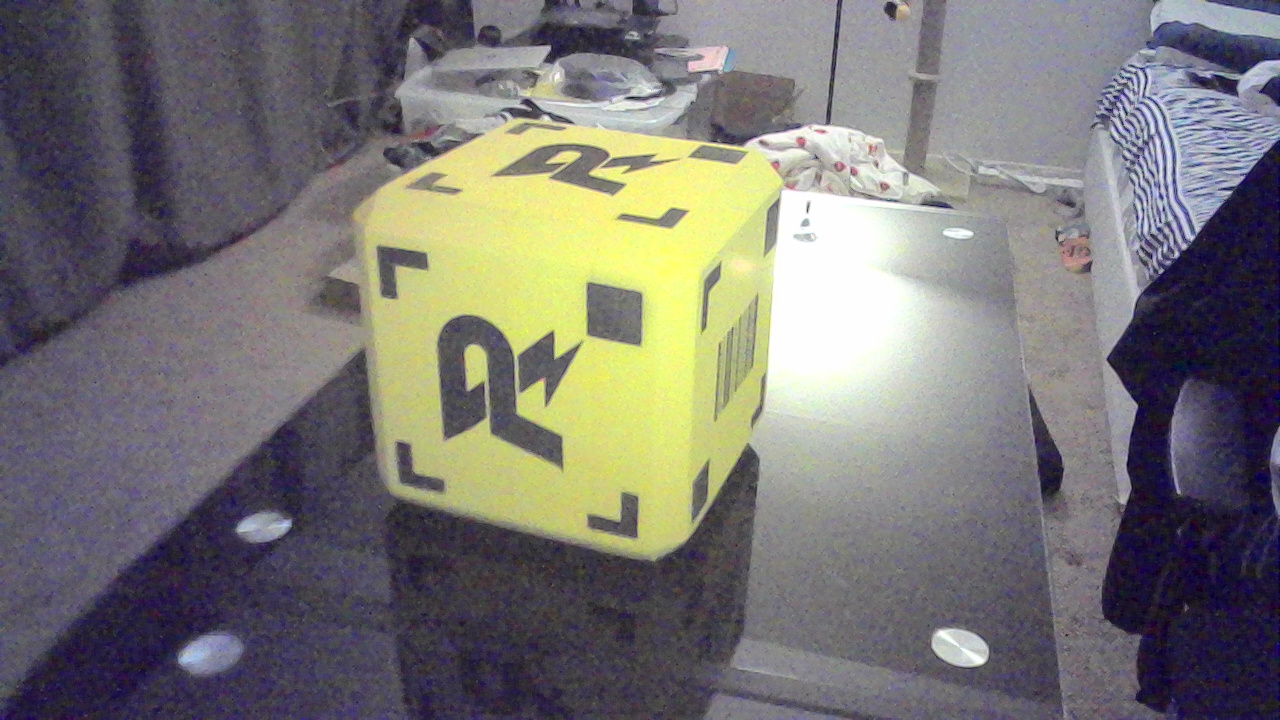Barcode: (706, 317, 784, 413)
R: (434, 308, 591, 479), (503, 145, 688, 207)
